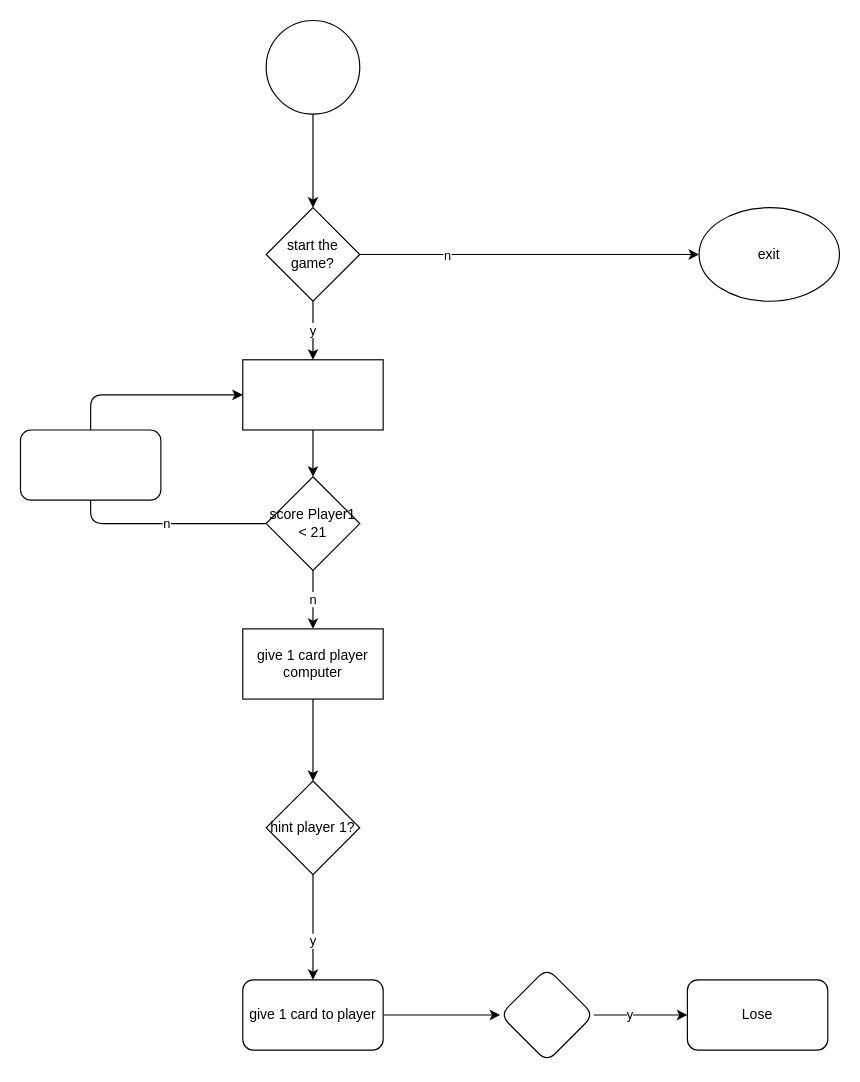
This 860x1082 diagram has some shape labels left out. Here are the shapes that lost their labels. From the top down, the centre of each, then its label:
At (312,394): "give 2 cards player 1".
At (90,464): "clear cards player 1".
At (546,1014): "score > 21?".
